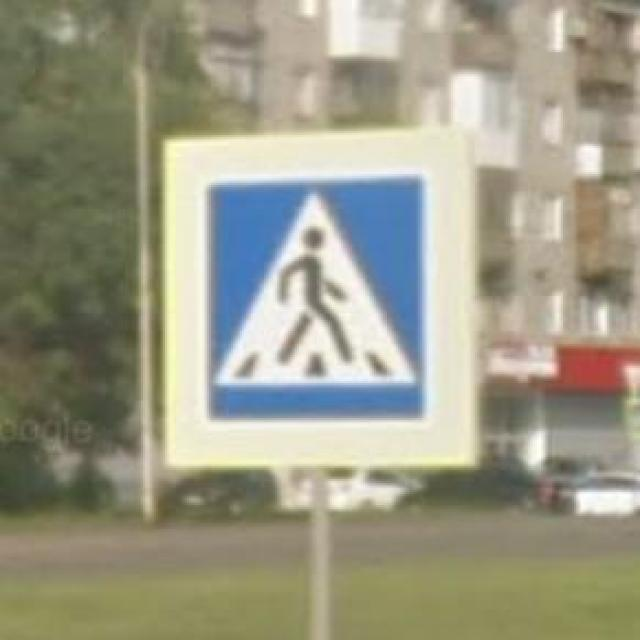crosswalk: (163, 124, 482, 475)
